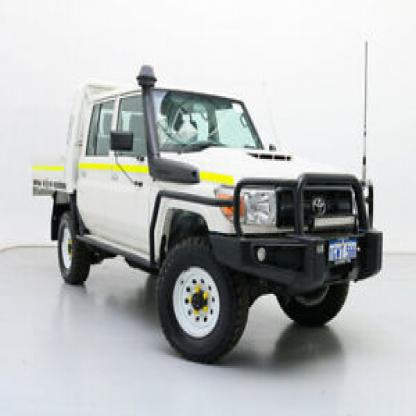light_vehicle: (27, 66, 378, 357)
